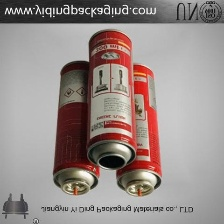aerosol_cans: (83, 26, 137, 173), (49, 57, 104, 199), (111, 59, 163, 200)
